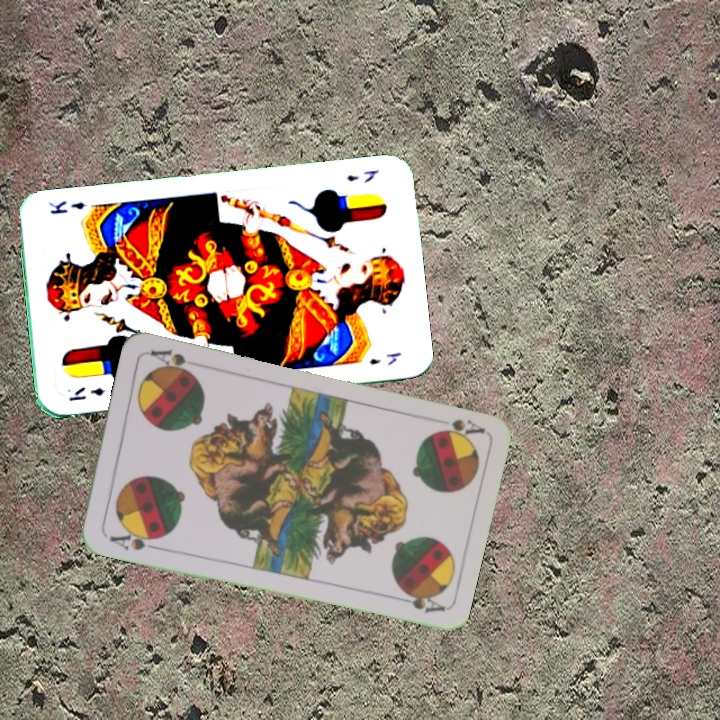EK: (64, 383, 107, 404), (343, 166, 382, 185)
SA: (427, 415, 487, 445), (105, 525, 163, 553)
